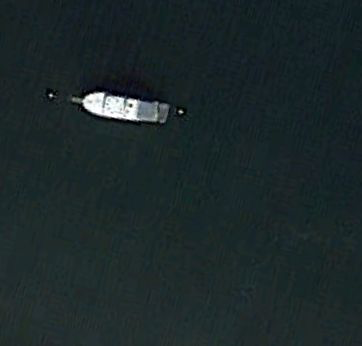boat: (78, 92, 172, 126)
